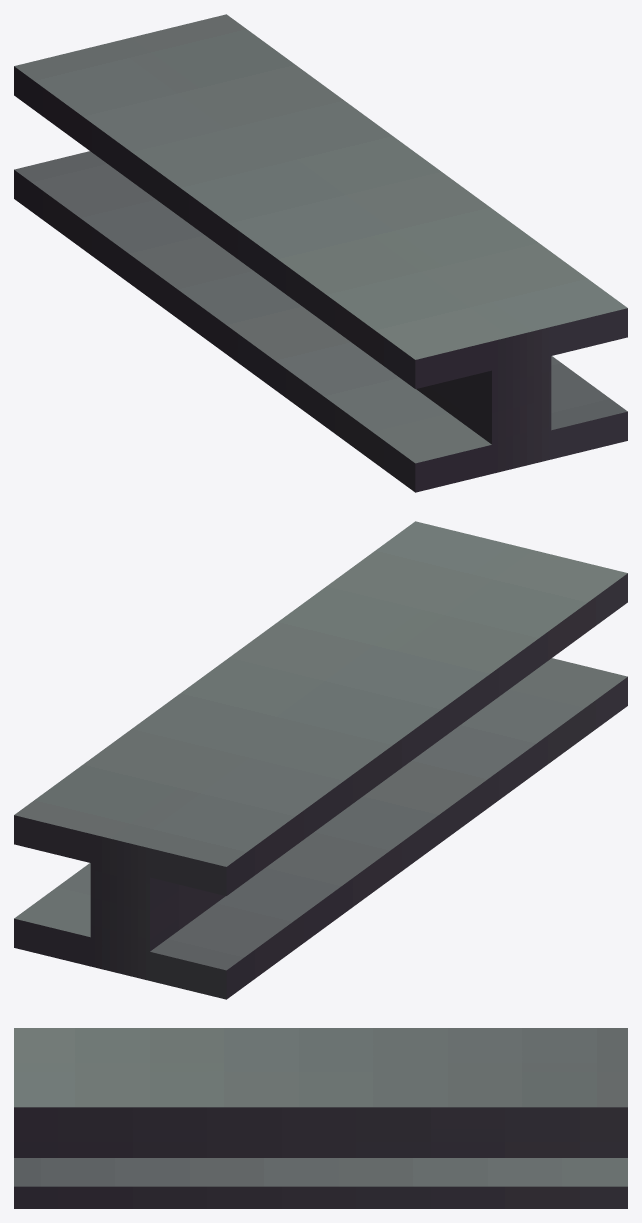
File: IronBar.fbx
The picture shows the model from 3 angles, top to bottom: view 1: azimuth 30°, elevation 25°; view 2: azimuth 150°, elevation 25°; view 3: azimuth 270°, elevation 25°; orthographic projection. The views are drawn at different scales.
Parts seen in each view (by area): view 1: Cube; view 2: Cube; view 3: Cube.
Part boxes in pixels (x1,y1,x2,y2): Cube: (14, 14, 627, 492); Cube: (14, 521, 627, 999); Cube: (14, 1028, 627, 1208).
Size of the model in its own units: 31.74 by 18.93 by 104.
